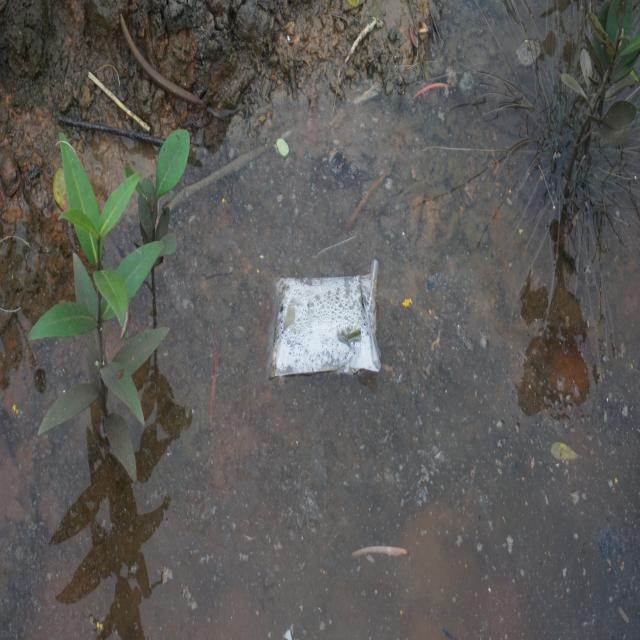Kantong Plastik: (264, 265, 385, 389)
